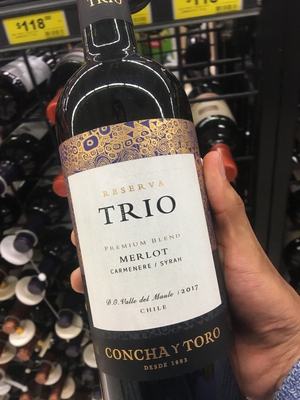trio merlot: (45, 10, 258, 400)
